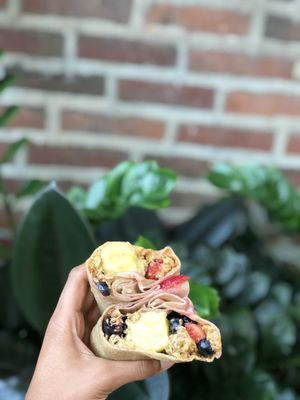soup: (85, 241, 224, 364)
